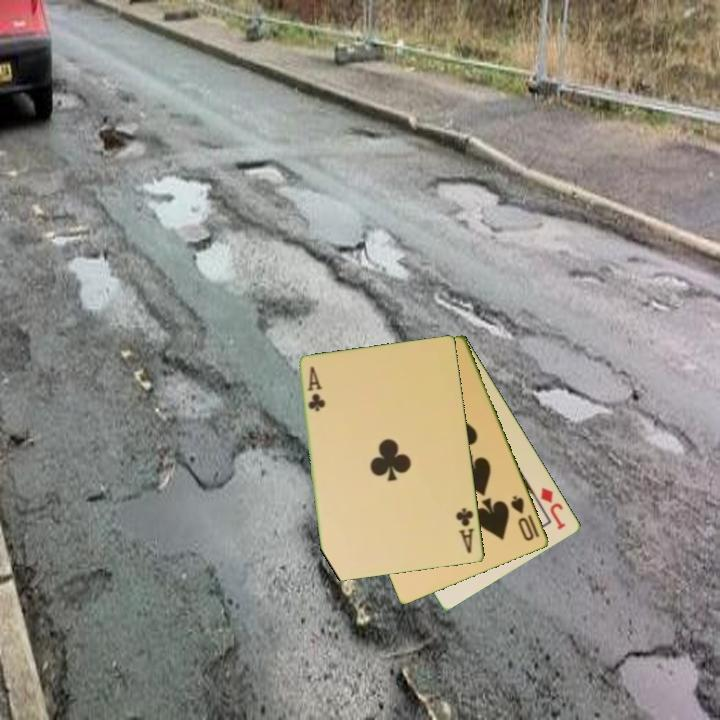10s: (507, 492, 537, 544)
Ac: (453, 504, 478, 556), (304, 363, 327, 415)
Jd: (537, 483, 569, 533)
